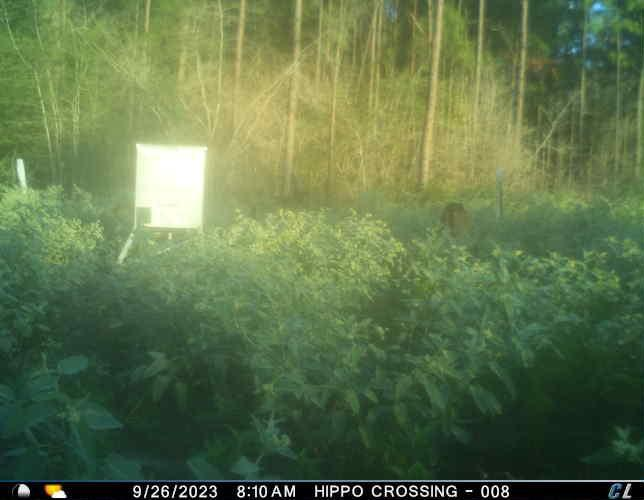Deer: (432, 200, 474, 238)
